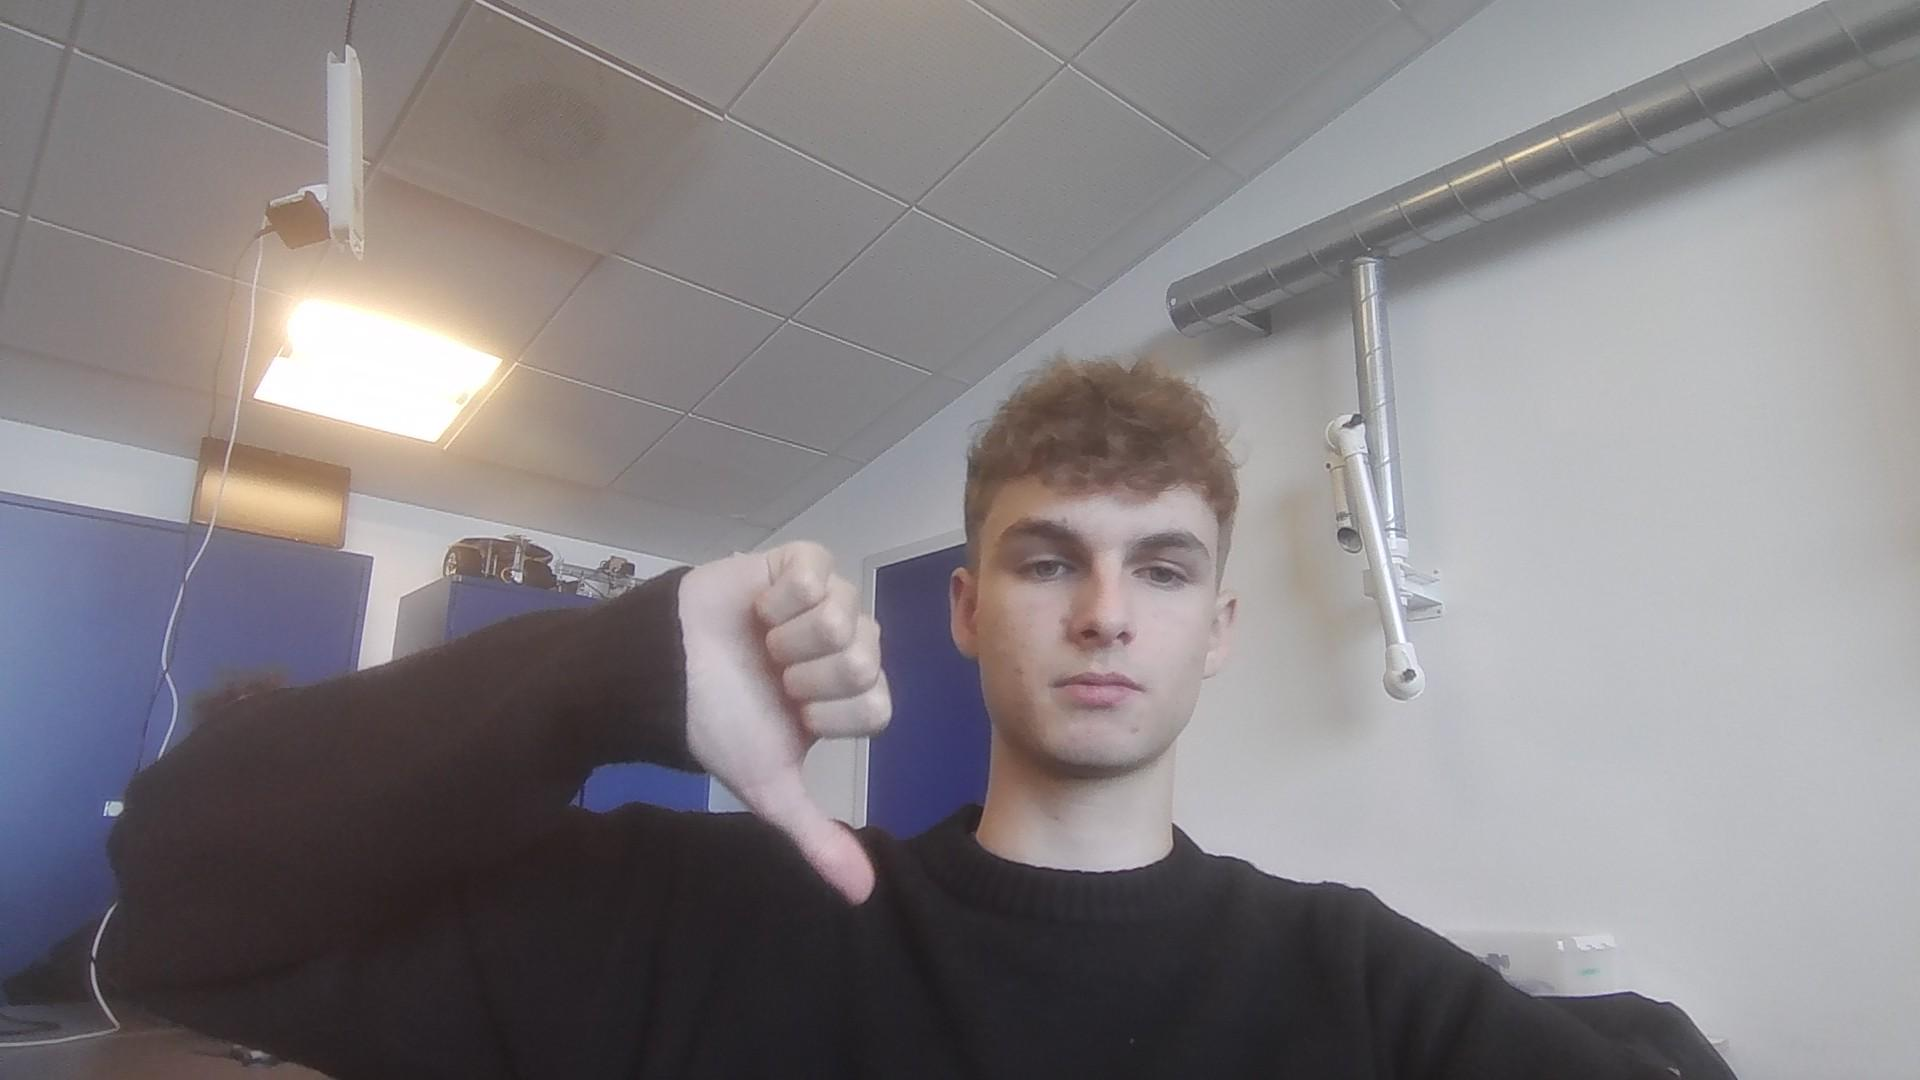thumbs down: (653, 533, 891, 915)
